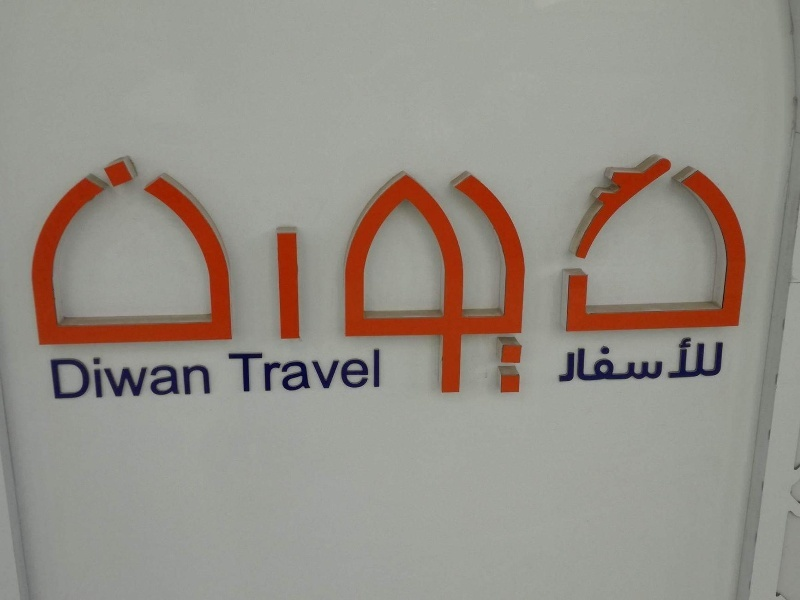text: (33, 153, 48, 409), (49, 153, 64, 409), (65, 153, 80, 409), (81, 153, 96, 409), (97, 153, 112, 409), (113, 153, 128, 409), (129, 153, 144, 409), (145, 153, 160, 409), (161, 153, 176, 409), (177, 153, 192, 409), (193, 153, 208, 409), (209, 153, 224, 409), (225, 153, 240, 409), (241, 153, 256, 409), (257, 153, 272, 409), (273, 153, 288, 409), (289, 153, 304, 409), (305, 153, 320, 409), (321, 153, 336, 409), (337, 153, 352, 409), (353, 153, 368, 409), (369, 153, 384, 409), (385, 153, 400, 409), (401, 153, 416, 409), (417, 153, 432, 409), (433, 153, 448, 409), (449, 153, 464, 409), (465, 153, 480, 409), (481, 153, 496, 409), (497, 153, 512, 409), (513, 153, 528, 409), (529, 153, 544, 409), (545, 153, 560, 409), (561, 153, 576, 409), (577, 153, 592, 409), (593, 153, 608, 409), (609, 153, 624, 409), (625, 153, 640, 409), (641, 153, 656, 409), (657, 153, 672, 409), (673, 153, 688, 409), (689, 153, 704, 409), (705, 153, 720, 409), (721, 153, 736, 409), (737, 153, 752, 409), (27, 153, 32, 409), (561, 334, 576, 382), (577, 334, 592, 382), (593, 334, 608, 382), (609, 334, 624, 382), (625, 334, 640, 382), (641, 334, 656, 382), (657, 334, 672, 382), (673, 334, 688, 382), (689, 334, 704, 382), (705, 334, 720, 382), (241, 347, 256, 394), (257, 347, 272, 394), (273, 347, 288, 394), (289, 347, 304, 394), (305, 347, 320, 394), (321, 347, 336, 394), (337, 347, 352, 394), (353, 347, 368, 394), (49, 355, 64, 401), (65, 355, 80, 401), (81, 355, 96, 401), (97, 355, 112, 401), (113, 355, 128, 401), (129, 355, 144, 401), (145, 355, 160, 401), (161, 355, 176, 401), (177, 355, 192, 401), (193, 355, 208, 401), (227, 347, 240, 394), (369, 347, 382, 394), (556, 334, 560, 382), (721, 334, 725, 382), (209, 355, 212, 401)
